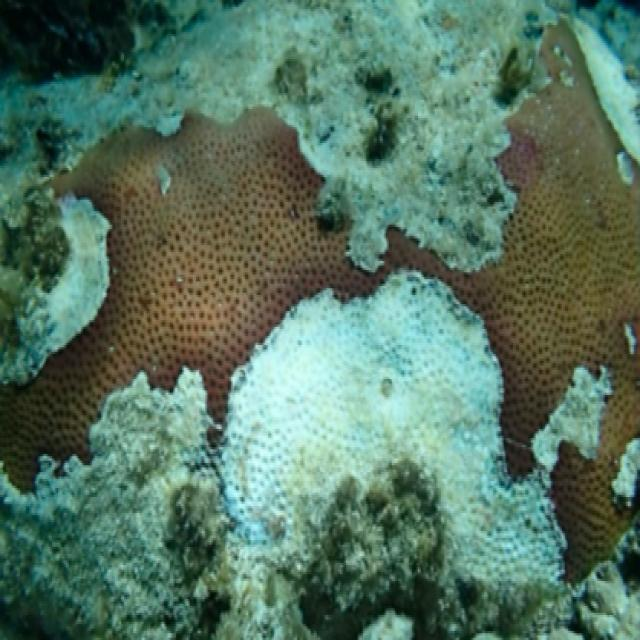Coral: (0, 17, 640, 614)
